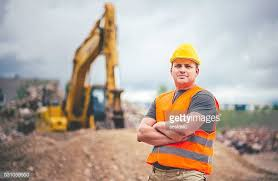hard hat: (169, 44, 201, 65)
high-vis: (144, 88, 218, 174)
